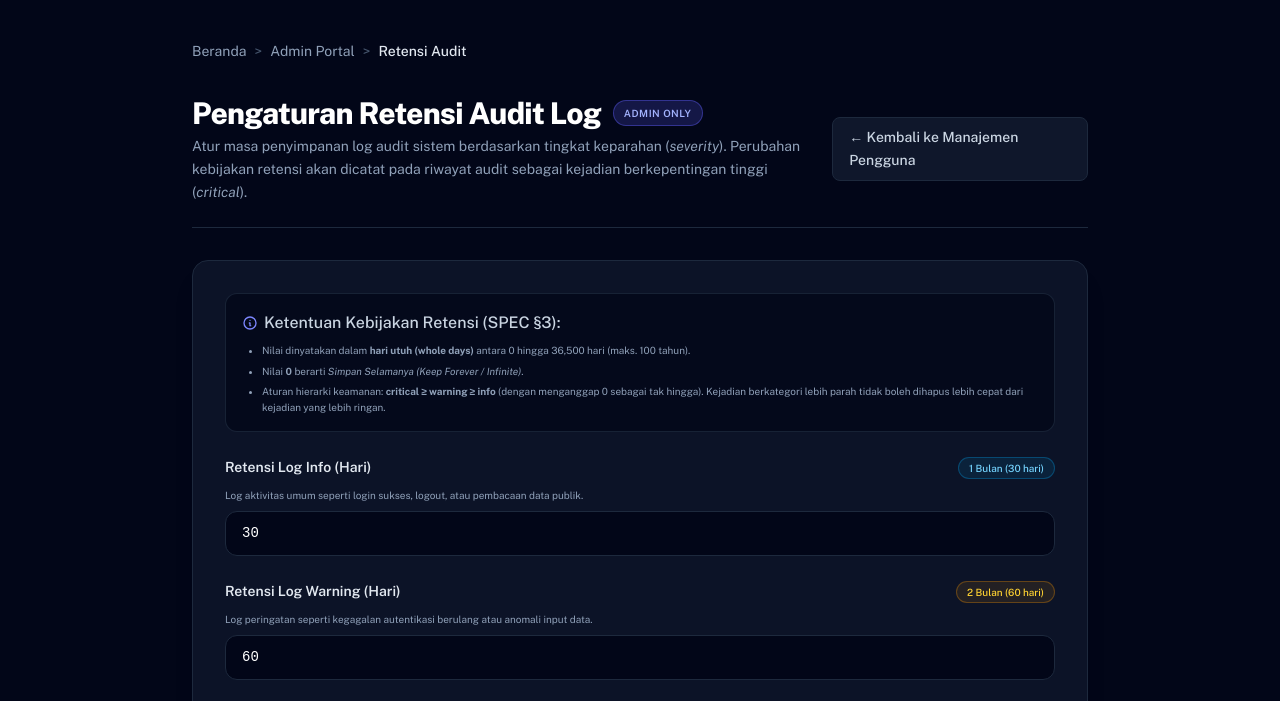
Test case: AuditRetentionSettingsView Client-Side Validation & Error Handling (Non-Happy Path) › displays server error banner when patch fails
Trigger submit with valid input changes
Replace the text in the number field with id "retention-info" with "45" at (640, 534), box [225,511,1055,556]
(page scrolled)
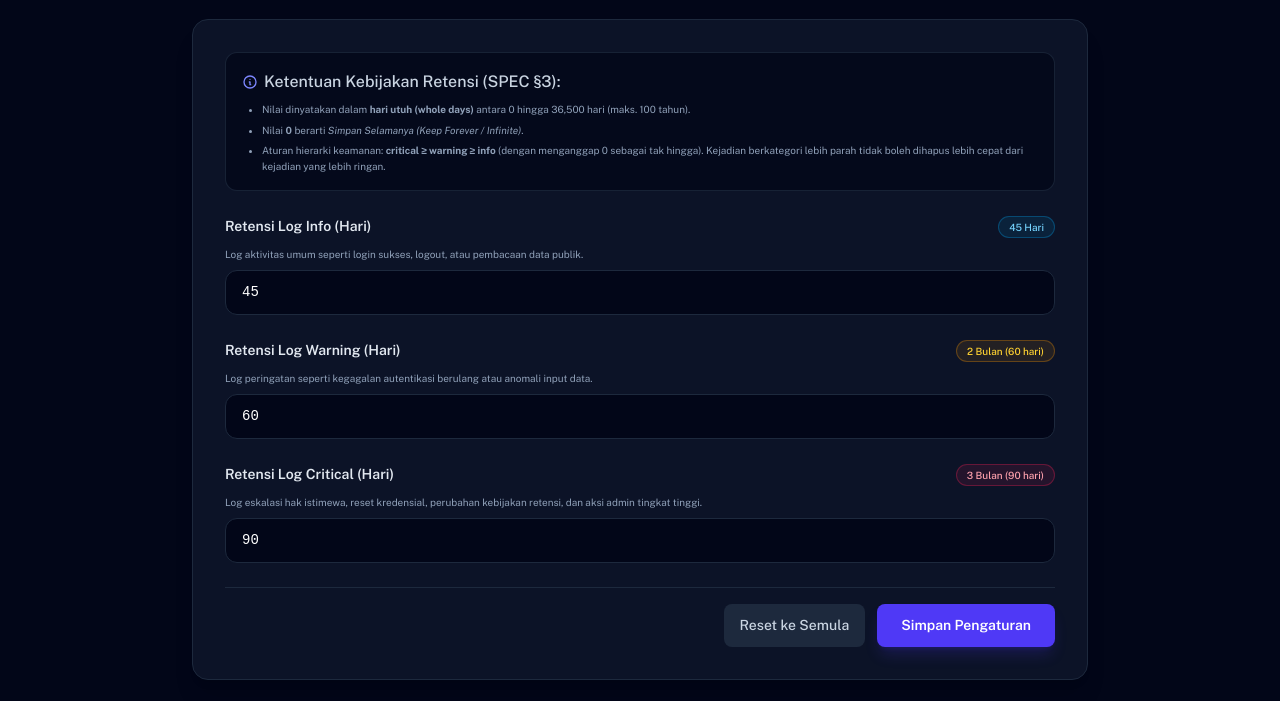
Submit the form, box [225,215,1055,647]
(page scrolled)
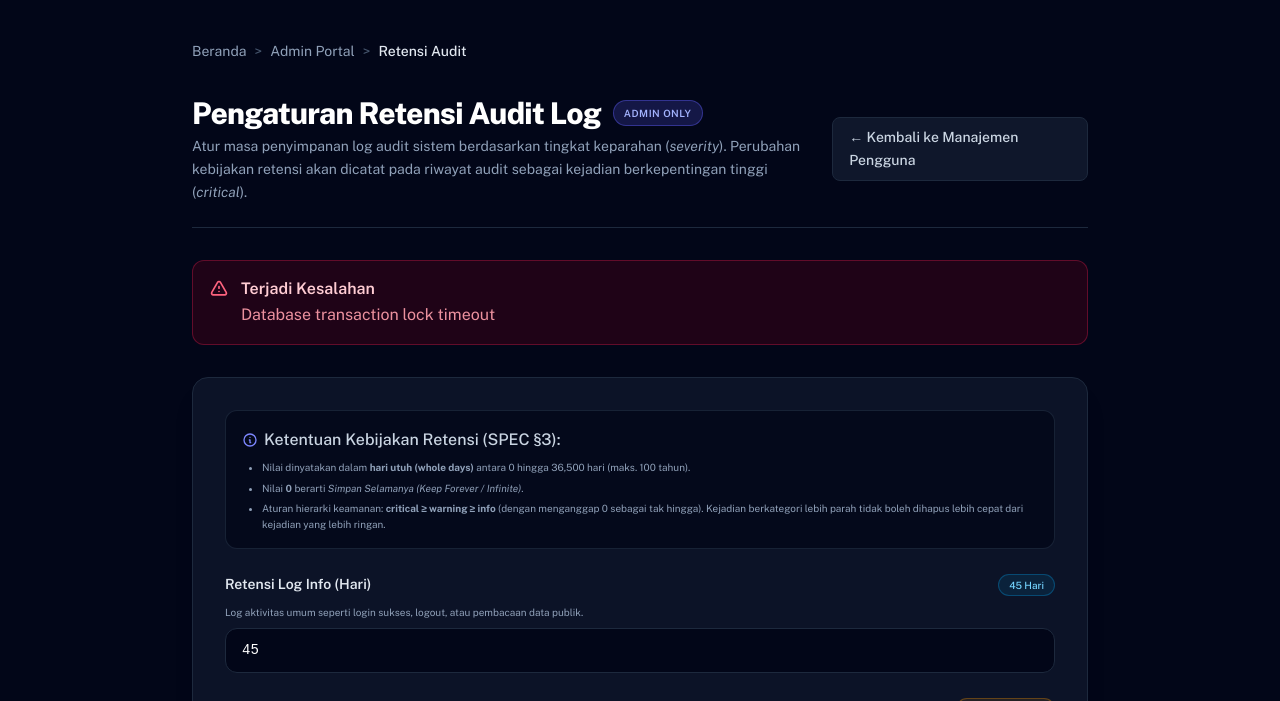
Result: the message "Terjadi Kesalahan Database transaction lock timeout" is shown at [192,260,1088,345]
Result: the message with test id "server-error-banner" shows "Database transaction lock timeout" at [241,305,495,324]
